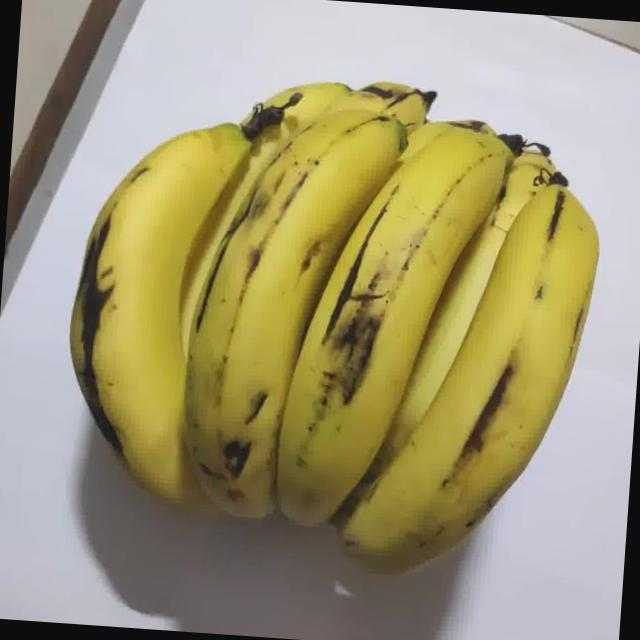banana_pacche: (45, 0, 640, 639)
